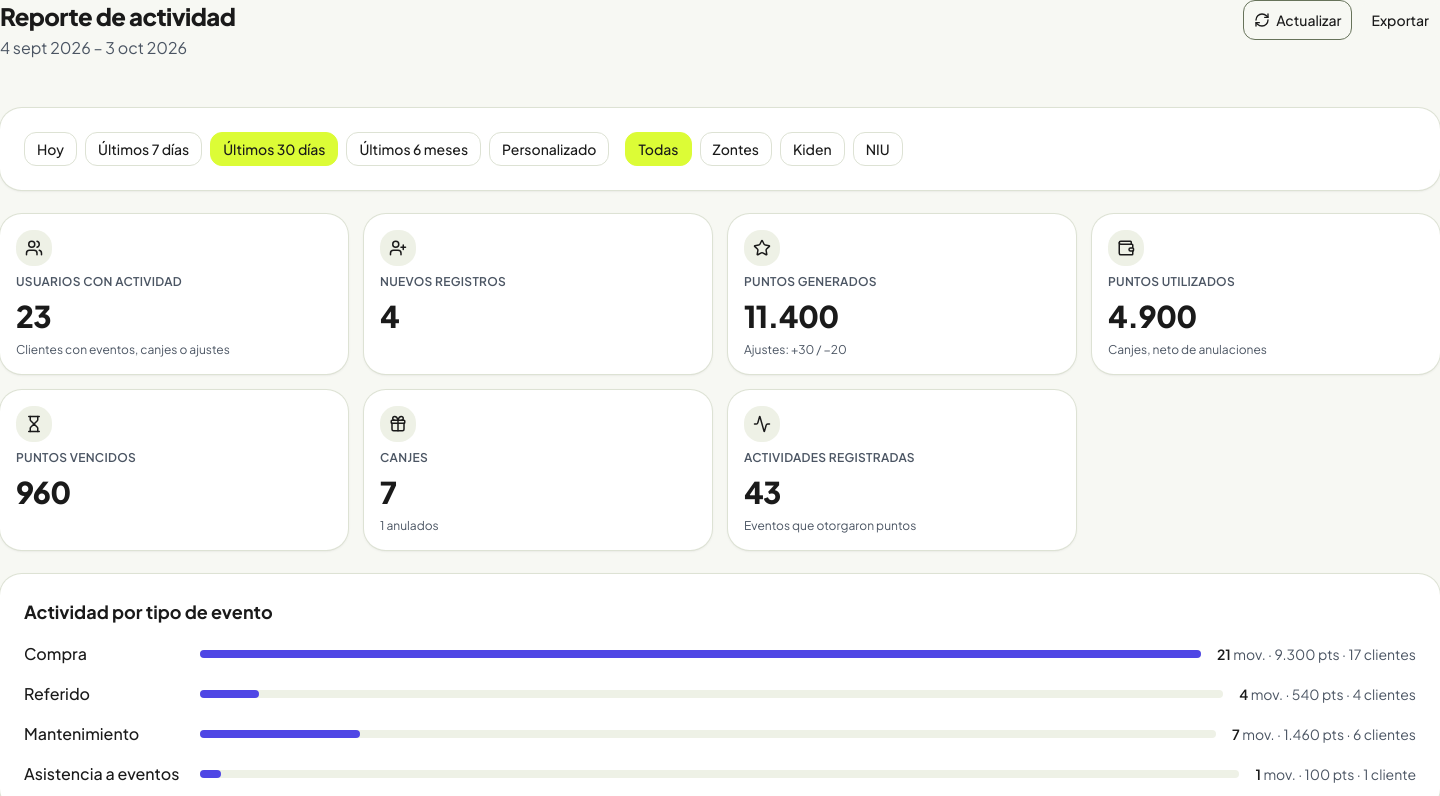
Test: F5-FE-01 · Actividad (UI-08, A10) › muestra el rechazo del backend a un rango personalizado de más de 12 meses
Click the button "Personalizado": (549, 149) [489, 132, 610, 166]
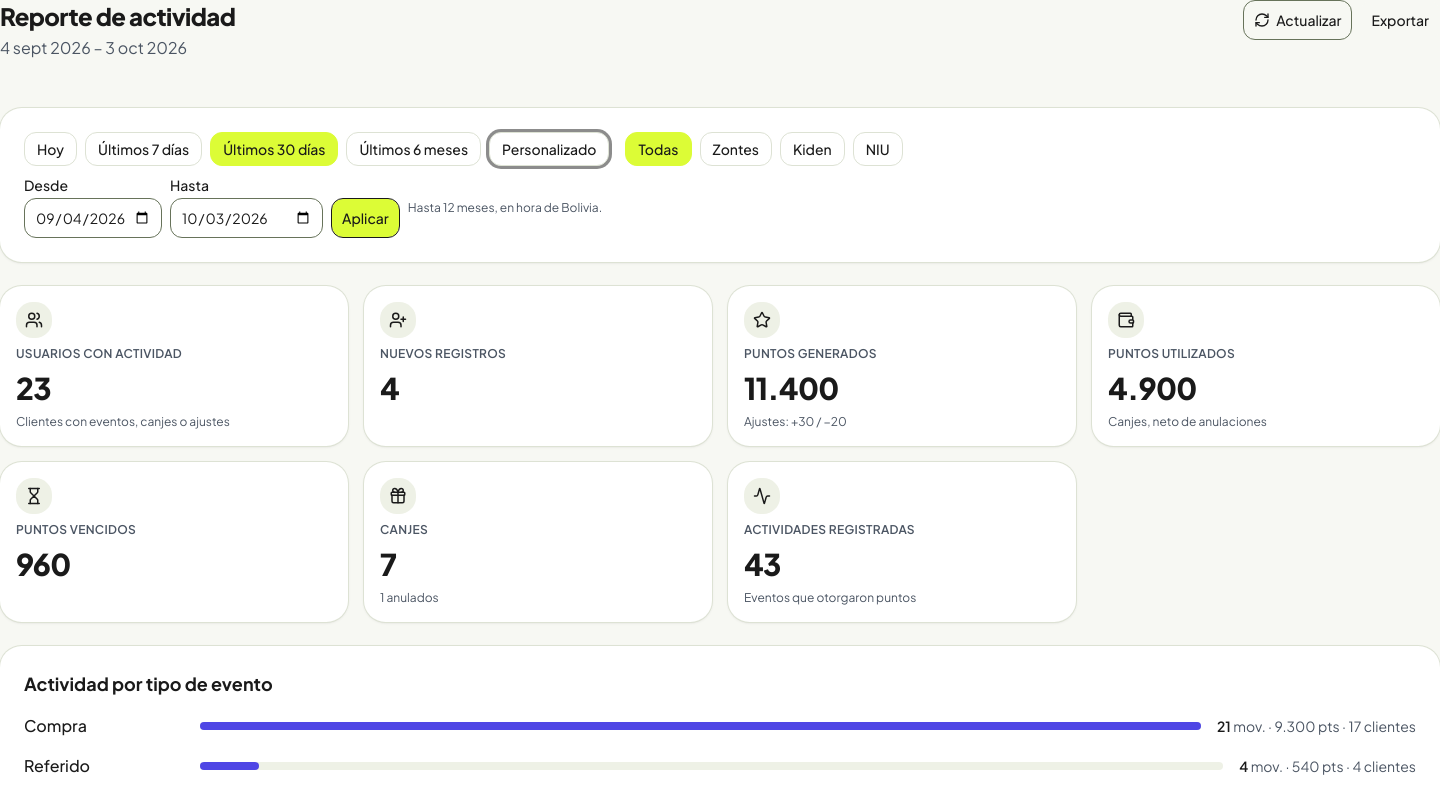
In the date field labelled "Desde": (93, 218) [24, 198, 162, 238], type "2025-01-01"
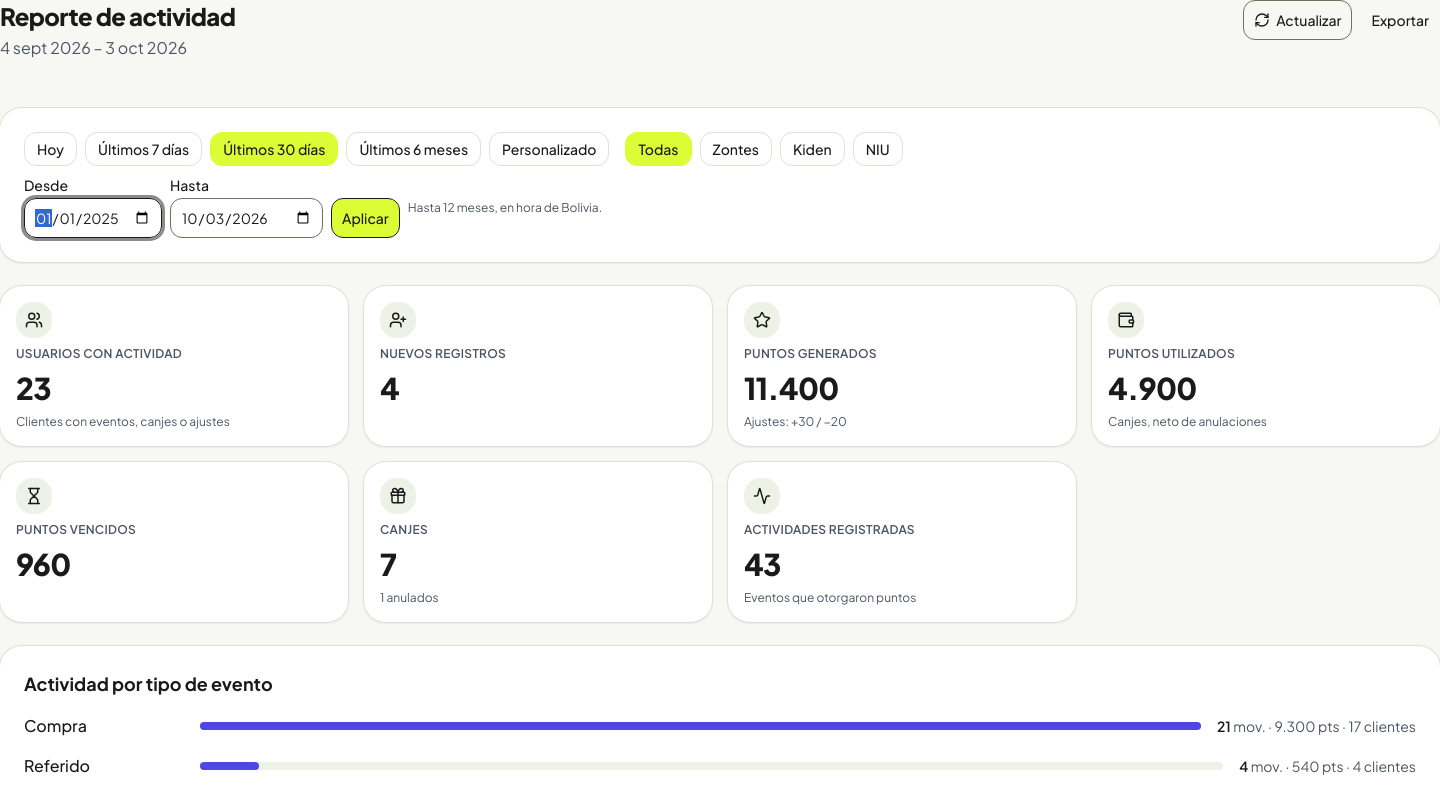
Click the button "Aplicar": (365, 218) [331, 198, 400, 238]
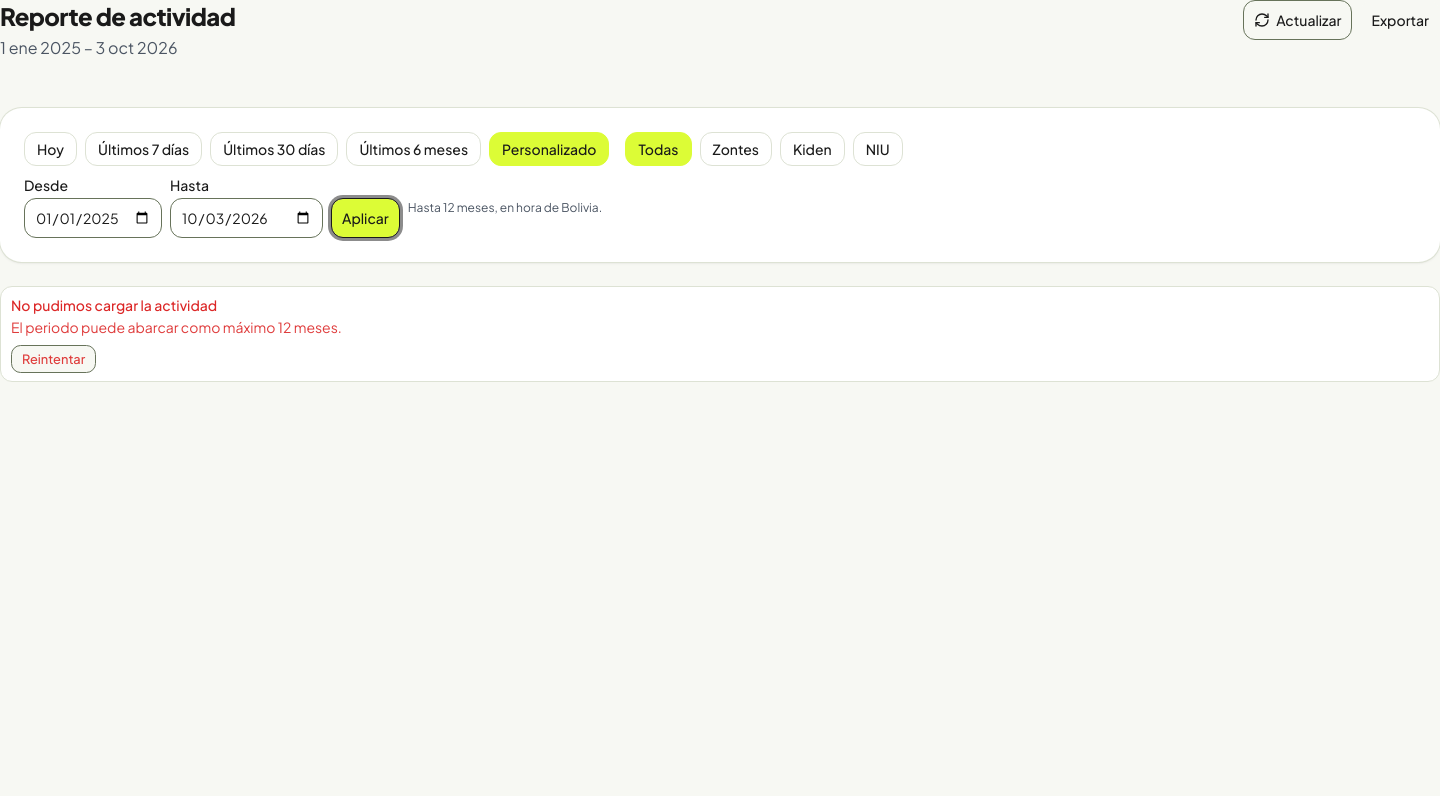
Now the message shows "como máximo 12 meses", box [11, 318, 342, 336]
